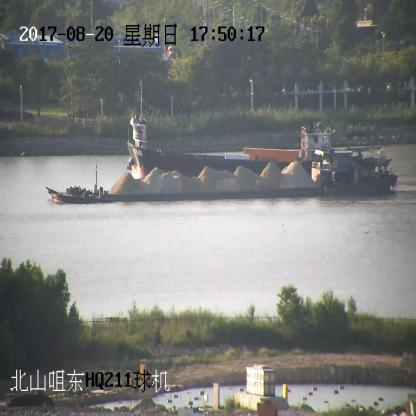Bulk Carrier: (125, 76, 333, 177)
